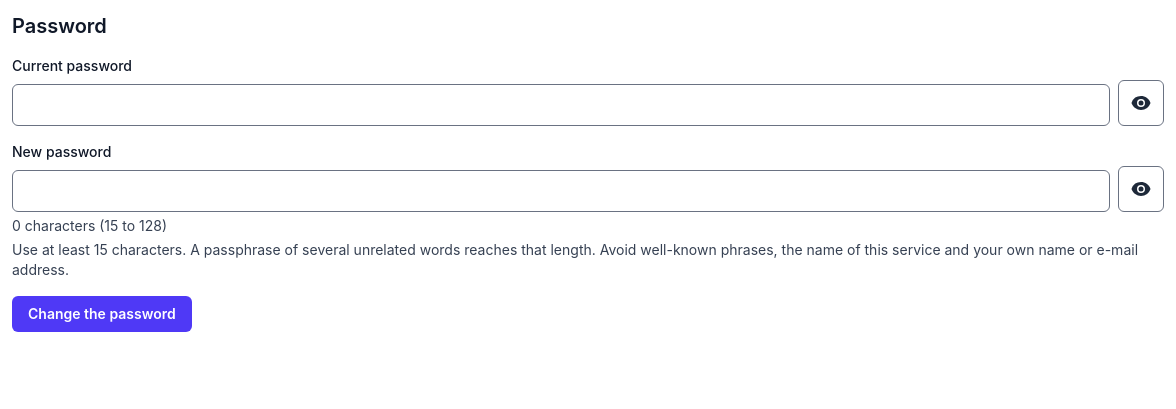
Test: a 422 validation_failed on the new password › common shows its field error with aria-invalid and aria-describedby next to the guidance
Type "the current passphrase" into the password field labelled "Current password" at (561, 105), box left=12, top=84, right=1110, bottom=126
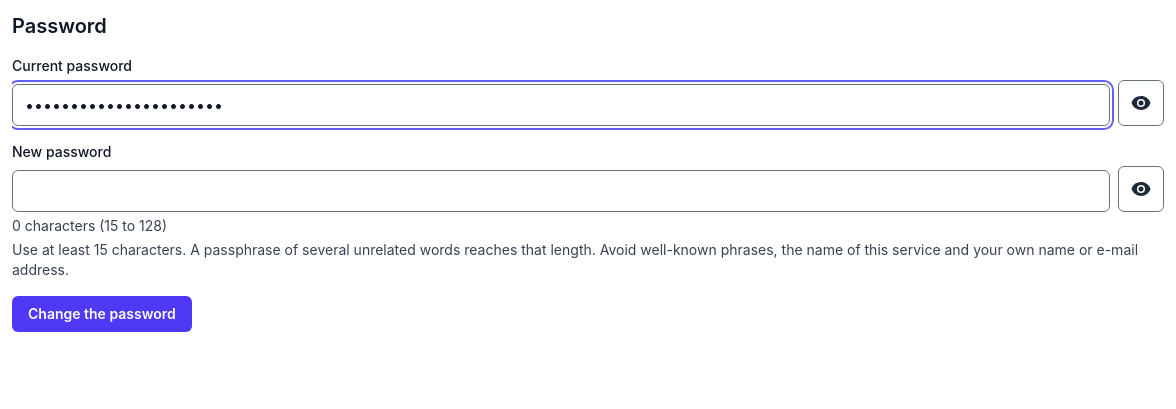
Type "a long enough passphrase" into the password field labelled "New password" at (561, 191), box left=12, top=170, right=1110, bottom=212
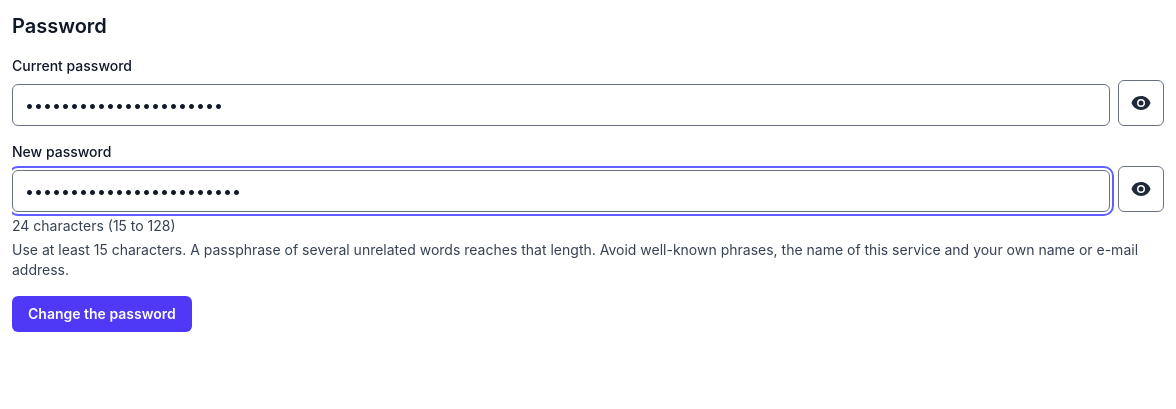
Click the button "Change the password" at (102, 314), box left=12, top=296, right=192, bottom=332
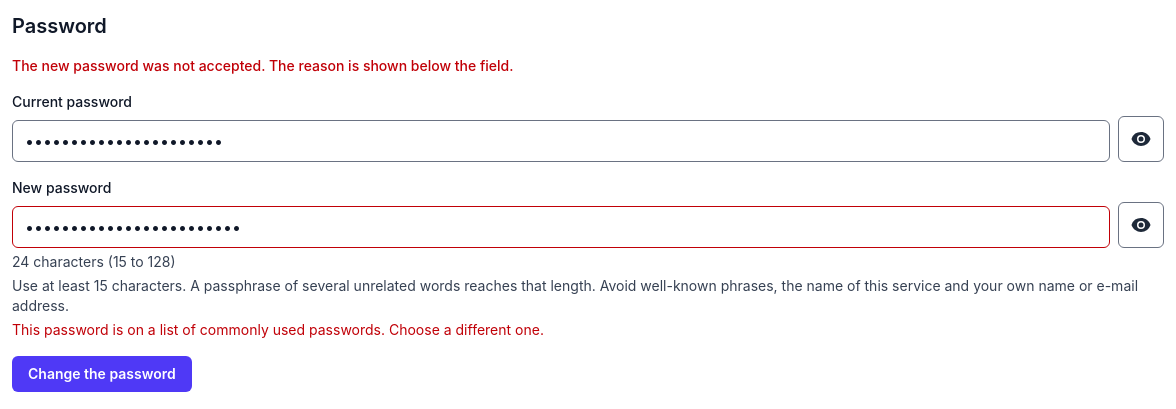
Check: the message reads "The new password was not accepted. The reason is shown below the field.", box left=12, top=57, right=514, bottom=74
